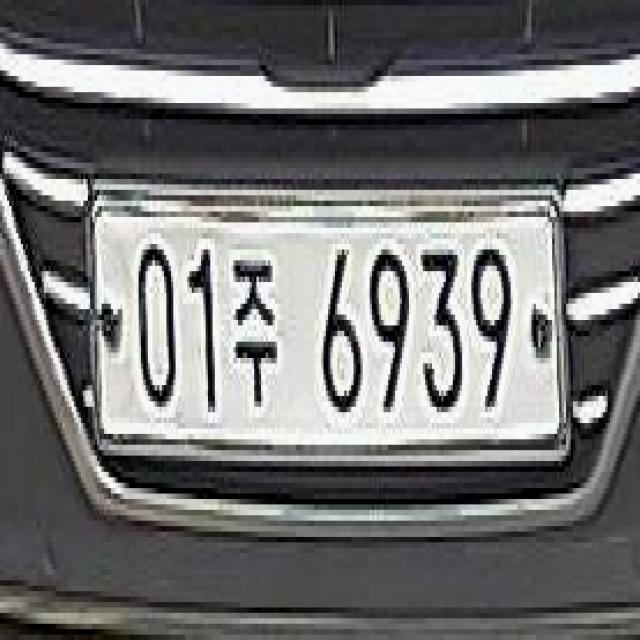illegal_plate: (93, 177, 567, 486)
